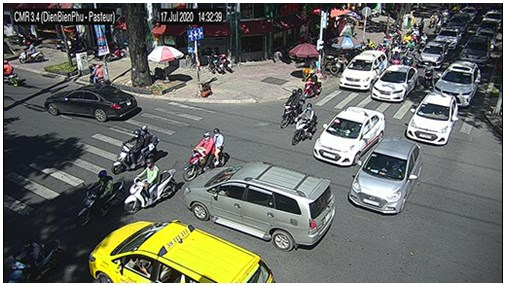xe_hoi: (182, 162, 336, 251), (348, 136, 421, 215), (43, 86, 137, 122), (405, 91, 458, 145), (435, 61, 481, 105), (371, 65, 418, 102), (460, 35, 490, 64), (419, 41, 445, 66), (434, 27, 460, 51), (448, 14, 470, 32), (477, 29, 495, 42)
xe_may: (124, 159, 176, 212), (76, 170, 123, 228), (183, 127, 227, 182), (111, 124, 159, 173), (6, 238, 57, 283), (292, 104, 316, 146), (281, 89, 305, 128), (19, 41, 46, 63), (302, 71, 322, 98), (2, 61, 19, 87), (89, 64, 106, 85), (423, 63, 435, 87), (390, 51, 400, 66), (402, 52, 412, 67)
xe_taxi: (87, 220, 274, 284), (313, 107, 386, 166), (339, 50, 387, 89)
